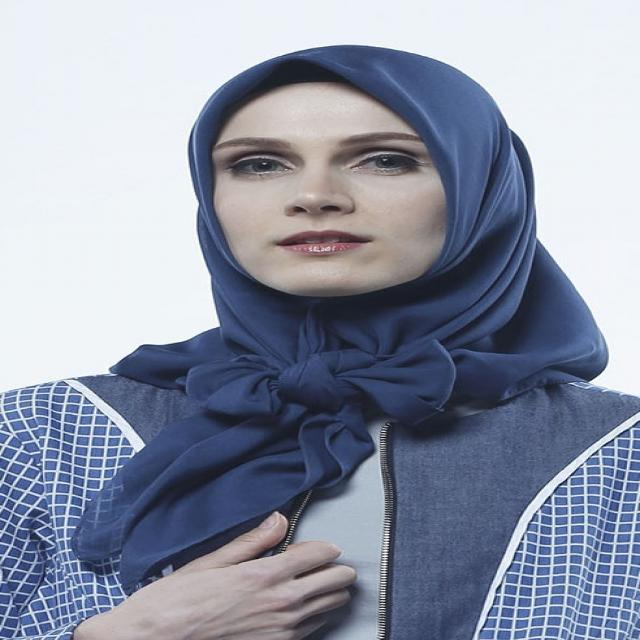head: (171, 40, 545, 302)
